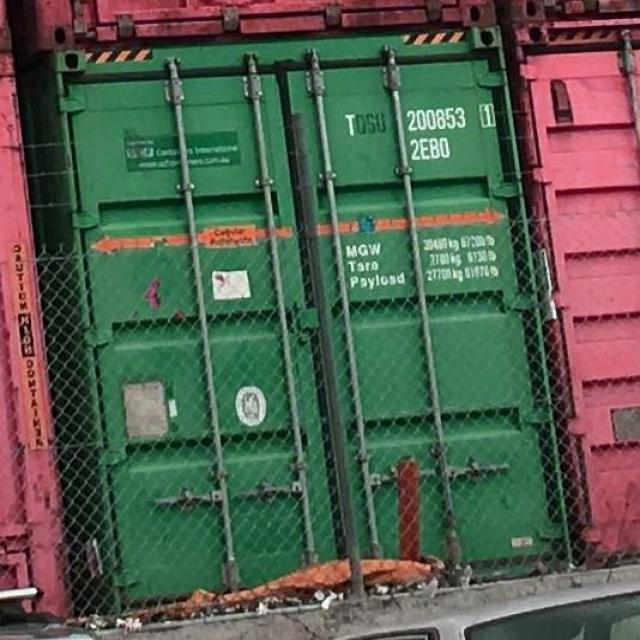ISO: (407, 132, 457, 162)
container_number: (340, 108, 494, 126)
